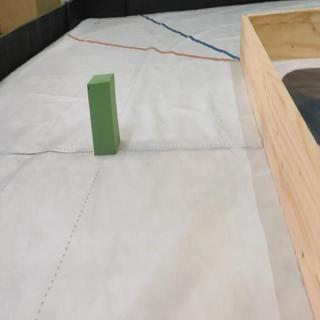greenbox: (87, 75, 121, 154)
